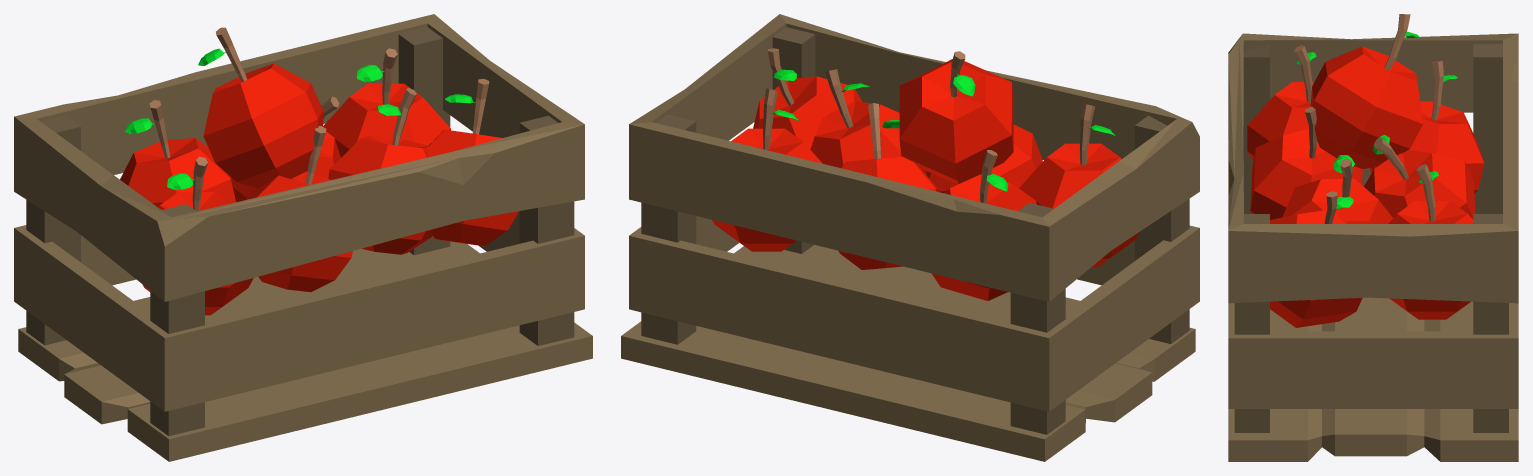
The model's file is applecrate.fbx.
3 views of the same model, side by side, from view 1: azimuth 30°, elevation 25°; view 2: azimuth 150°, elevation 25°; view 3: azimuth 270°, elevation 25° (orthographic). The views are drawn at different scales.
Parts seen in each view (by area): view 1: apple; view 2: apple; view 3: apple.
Boxes of the visible parts, x1,y1,x2,y2 form: apple: (14, 14, 592, 461); apple: (621, 14, 1199, 461); apple: (1228, 14, 1518, 461).
Size of the model in its own units: 132 by 95.9 by 79.21.
